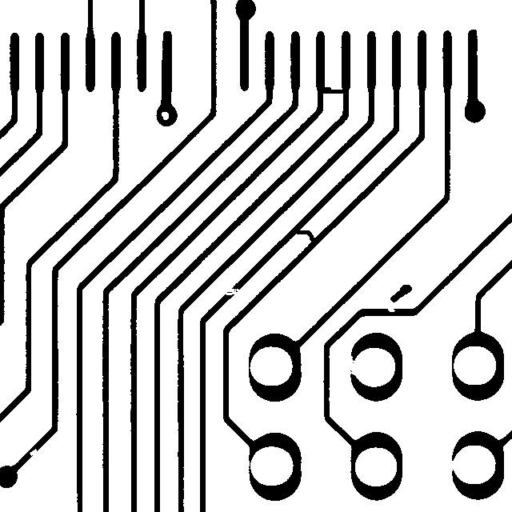copper: (382, 277, 419, 310)
mousebite: (22, 441, 44, 463), (380, 299, 402, 319)
open: (339, 347, 363, 382), (214, 281, 246, 302)
pin-hole: (154, 104, 176, 127)
short: (288, 222, 325, 250), (312, 79, 354, 101)
